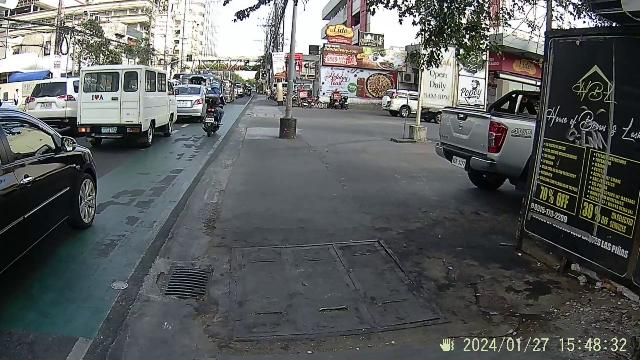utility_post: (266, 2, 322, 156)
